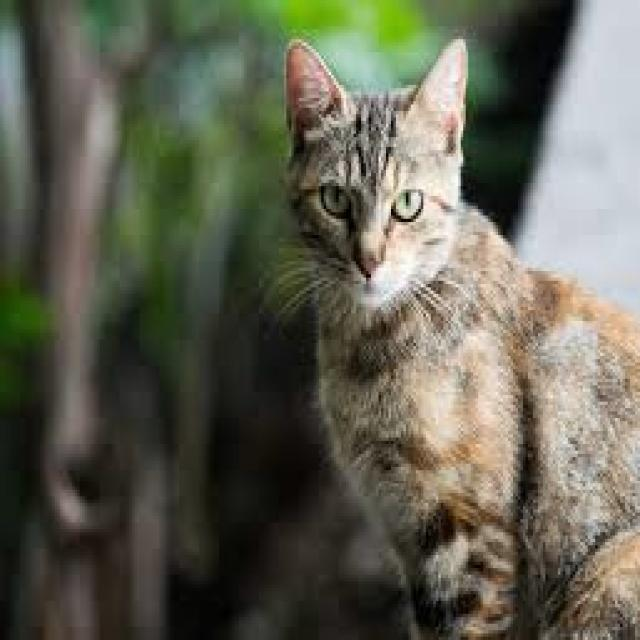cat: (289, 39, 638, 637)
